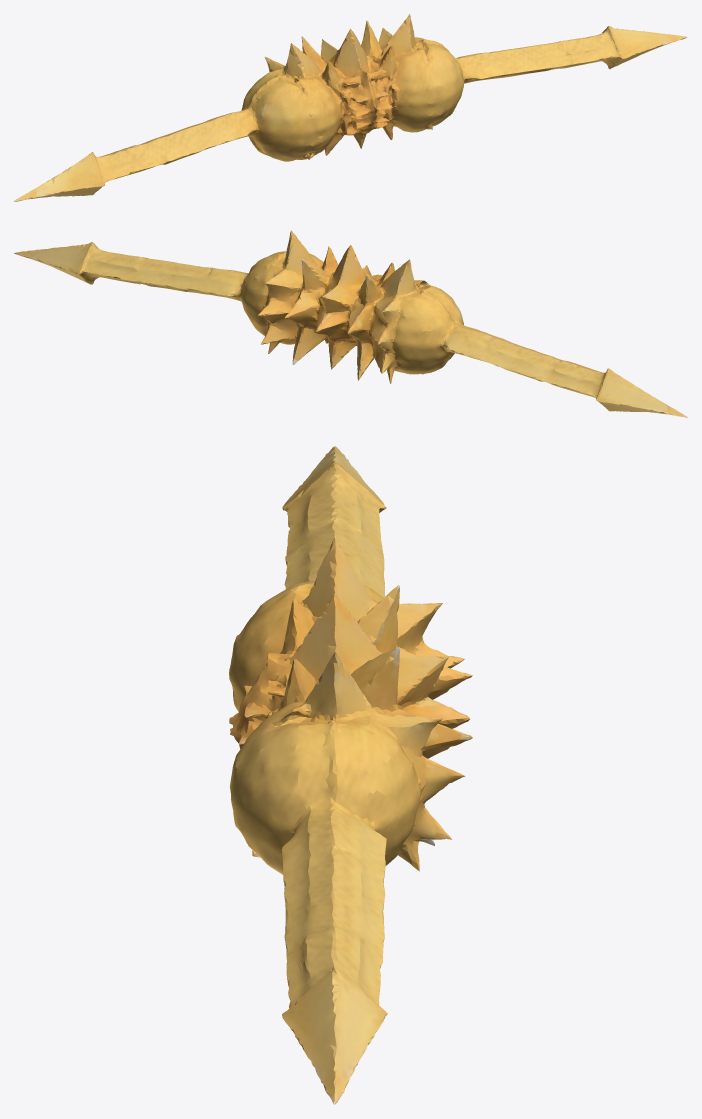
The model's file is valkyrie_weapon_primary.glb.
The picture shows the model from 3 angles, top to bottom: view 1: azimuth 30°, elevation 25°; view 2: azimuth 150°, elevation 25°; view 3: azimuth 270°, elevation 25°; orthographic projection. The views are drawn at different scales.
Visible parts, largest first — view 1: valkyrie_weapon_primary; view 2: valkyrie_weapon_primary; view 3: valkyrie_weapon_primary.
Boxes of the visible parts, x1,y1,x2,y2 form: valkyrie_weapon_primary: (14,14,687,201); valkyrie_weapon_primary: (14,230,687,417); valkyrie_weapon_primary: (229,446,472,1104).
Bounding box in the file's own units: 1.89 × 0.304 × 0.2969.
1 material, 1 textured.
